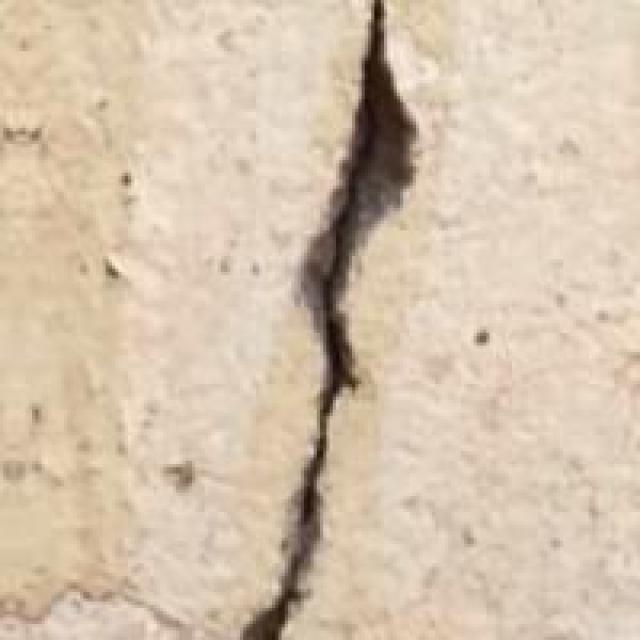Crack: (192, 6, 493, 637)
